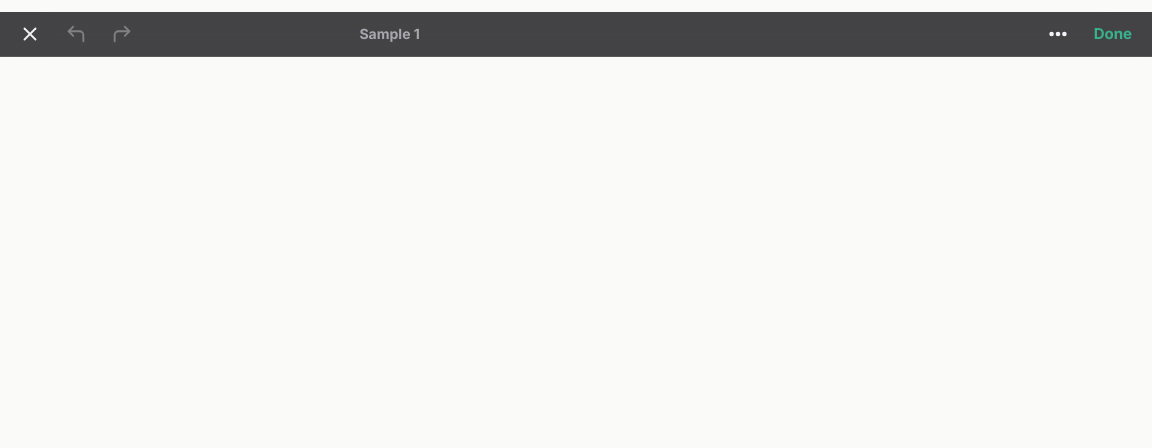
Scenario: D8-F11: the overflow menu is a real popover › the help overlay is reachable from a menu, not only from the ? key
Click the button named "More options": {"x": 1058, "y": 34} [1036,12,1080,56]
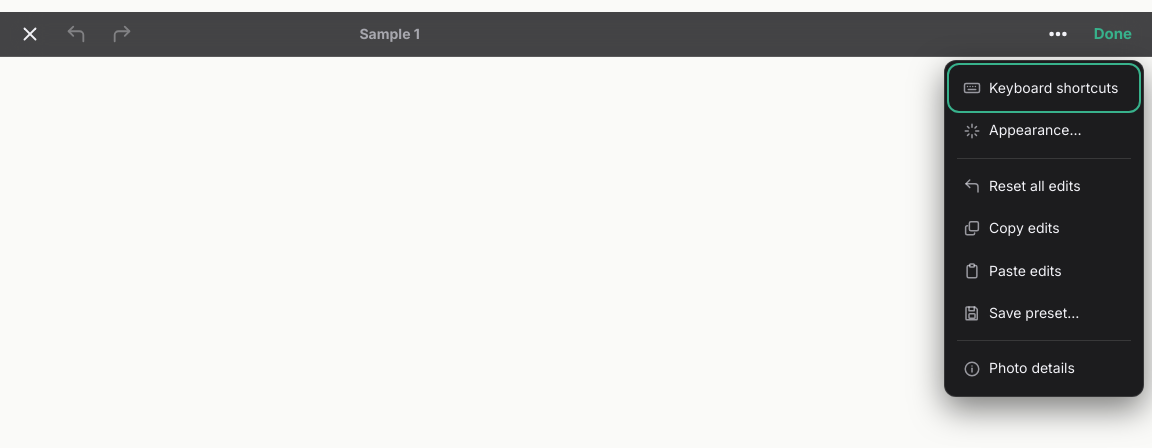
Result: the menu item "Keyboard shortcuts" is shown
Click the menu item "Keyboard shortcuts": {"x": 1044, "y": 88} [951,67,1137,109]
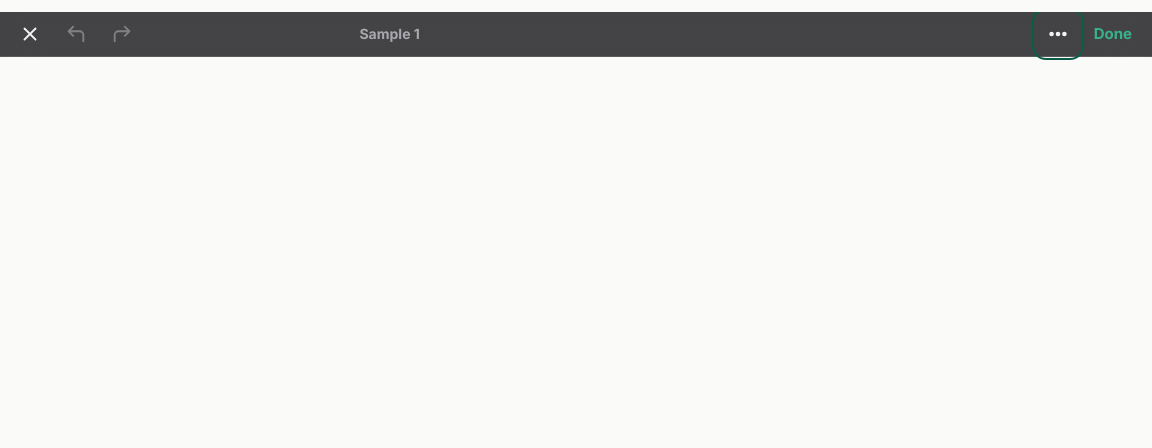
Result: the menu is gone
